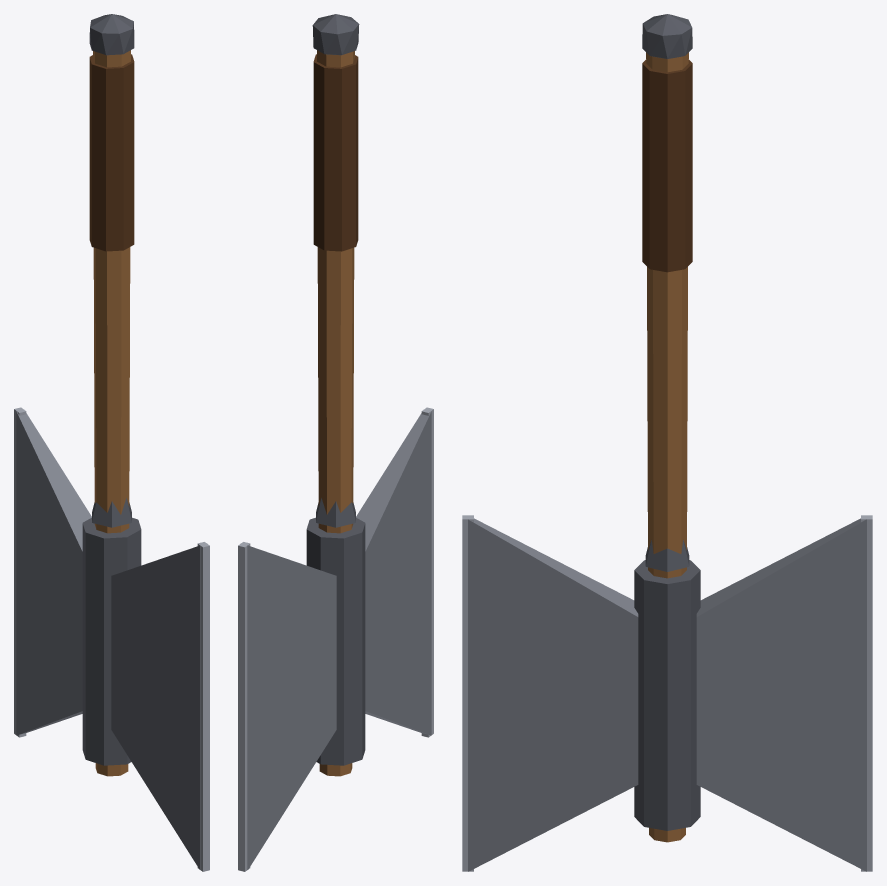
The model's file is held_iron_axe.glb.
3 renders of one model, left to right at view 1: azimuth 30°, elevation 25°; view 2: azimuth 150°, elevation 25°; view 3: azimuth 270°, elevation 25°, orthographic. The views are drawn at different scales.
Parts seen in each view (by area): view 1: held_iron_axe; view 2: held_iron_axe; view 3: held_iron_axe.
Part boxes in pixels (x1,y1,x2,y2): held_iron_axe: (14,14,209,871); held_iron_axe: (238,14,433,871); held_iron_axe: (462,14,872,871).
Bounding box in the file's own units: 0.068 × 0.971 × 0.422.
